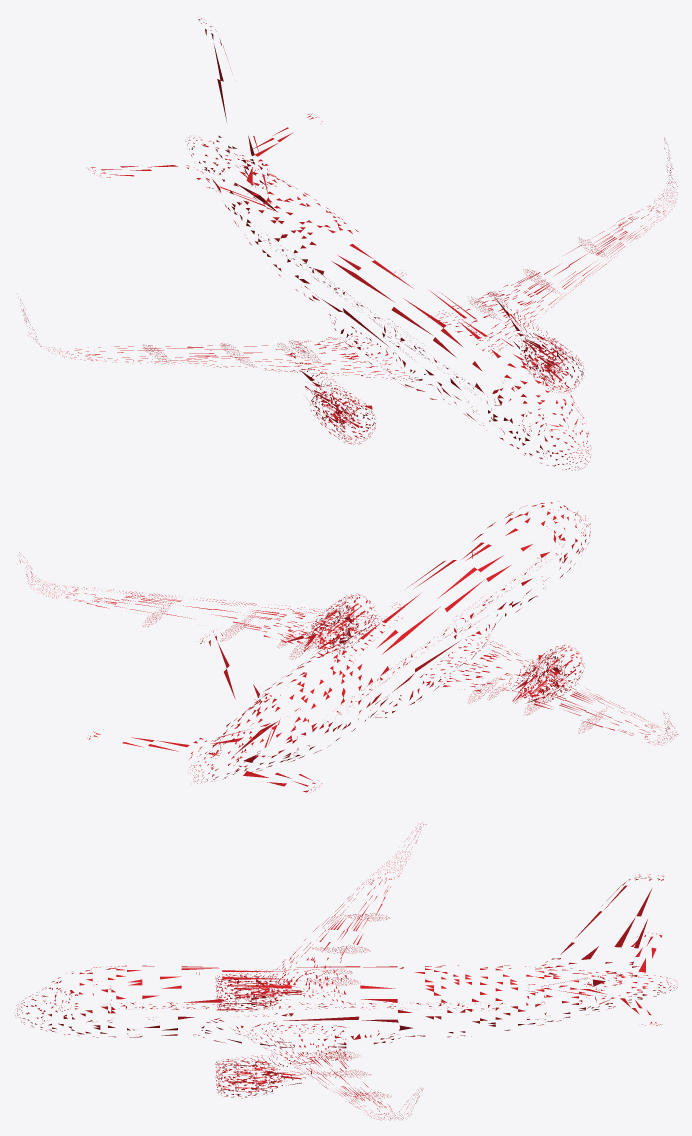
The picture shows the model from 3 angles, top to bottom: view 1: azimuth 30°, elevation 25°; view 2: azimuth 150°, elevation 25°; view 3: azimuth 270°, elevation 25°; orthographic projection. The views are drawn at different scales.
Visible parts, largest first — view 1: Cylinder_5, Cylinder030_57, Cylinder005_14; view 2: Cylinder_5, Cylinder030_57, Cylinder005_14; view 3: Cylinder_5, Cylinder030_57, Cylinder004_12, Cylinder005_14.
Boxes of the visible parts, x1,y1,x2,y2 form: Cylinder_5: [20, 135, 677, 470]; Cylinder030_57: [310, 333, 582, 443]; Cylinder005_14: [88, 113, 322, 212]; Cylinder_5: [19, 501, 677, 783]; Cylinder030_57: [310, 594, 584, 703]; Cylinder005_14: [87, 719, 321, 792]; Cylinder_5: [15, 823, 677, 1120]; Cylinder030_57: [215, 973, 279, 1098]; Cylinder004_12: [541, 874, 664, 976]; Cylinder005_14: [526, 932, 662, 1025].
Size of the model in its own units: 141 by 44.55 by 149.
